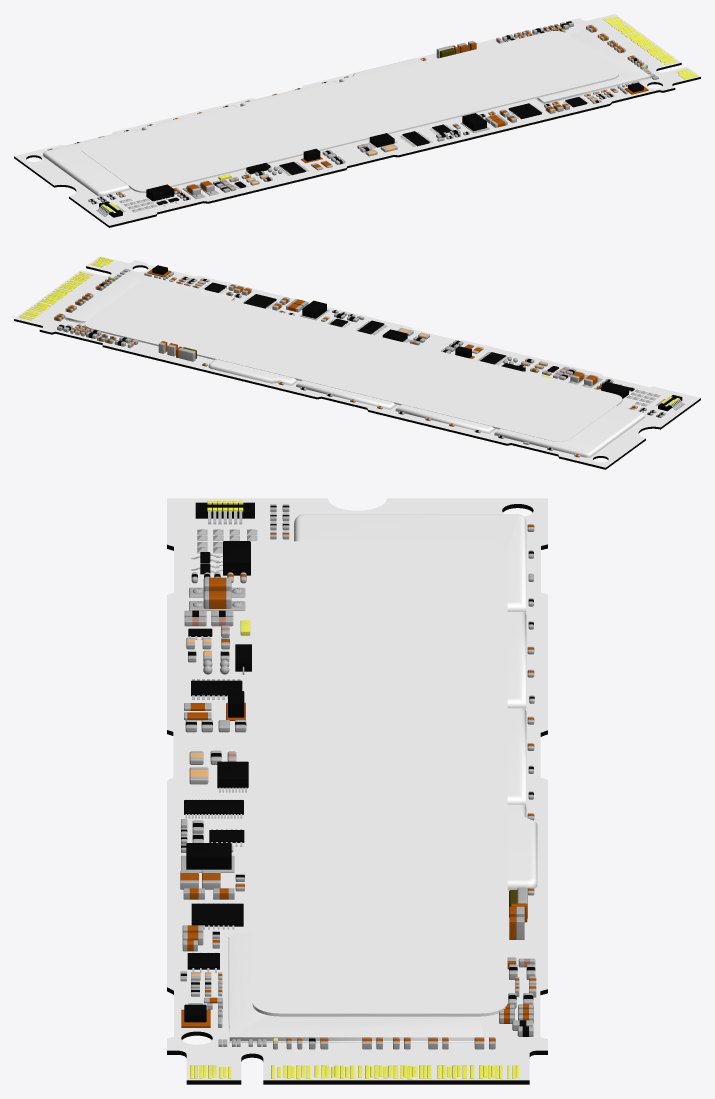
File: nvme.glb
3 views of the same model, one above another, from view 1: azimuth 30°, elevation 25°; view 2: azimuth 150°, elevation 25°; view 3: azimuth 270°, elevation 25° (orthographic). The views are drawn at different scales.
Visible parts, largest first — view 1: Line040.003; view 2: Line040.003; view 3: Line040.003.
Boxes of the visible parts, x1,y1,x2,y2 form: Line040.003: (14, 14, 700, 227); Line040.003: (14, 256, 700, 469); Line040.003: (167, 498, 547, 1084).
Bounding box in the file's own units: 3.24 × 0.0602 × 0.8954.
